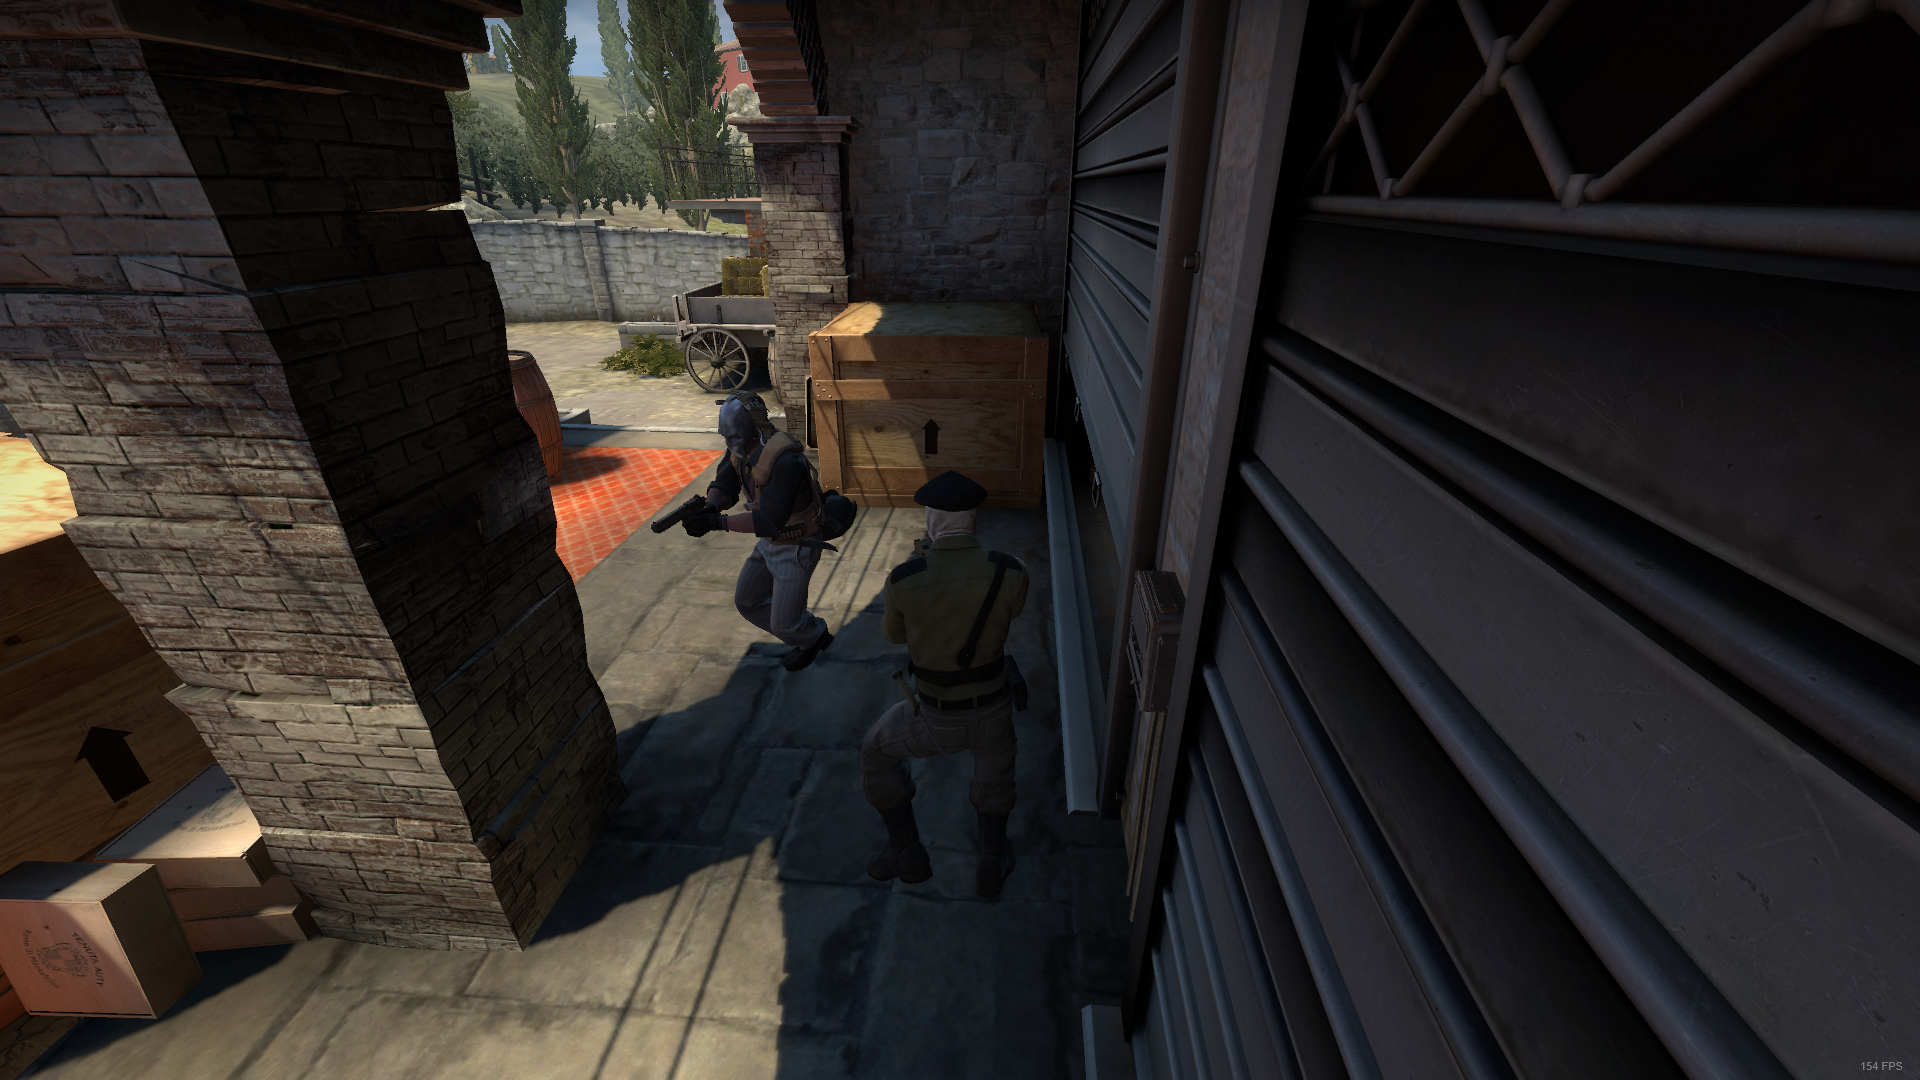t: (861, 469, 1029, 905)
